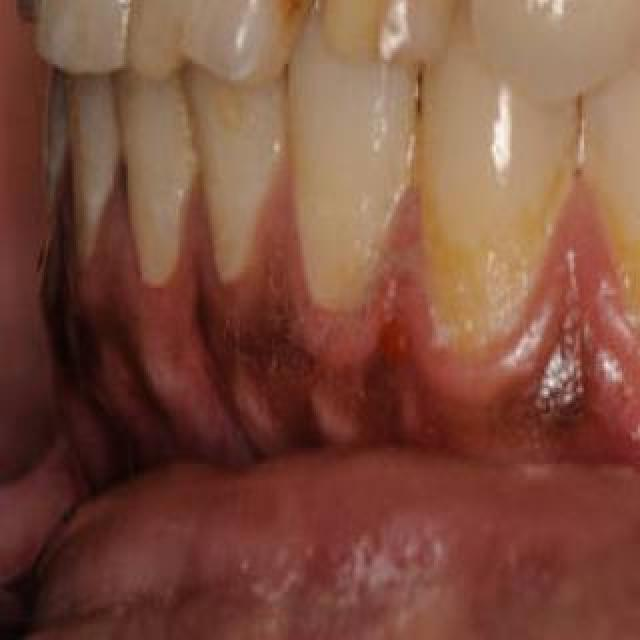plaque: (263, 89, 403, 289), (539, 73, 619, 243), (380, 81, 454, 255), (150, 73, 220, 233), (638, 0, 640, 20)
spacing: (288, 0, 344, 62), (434, 0, 502, 48)
